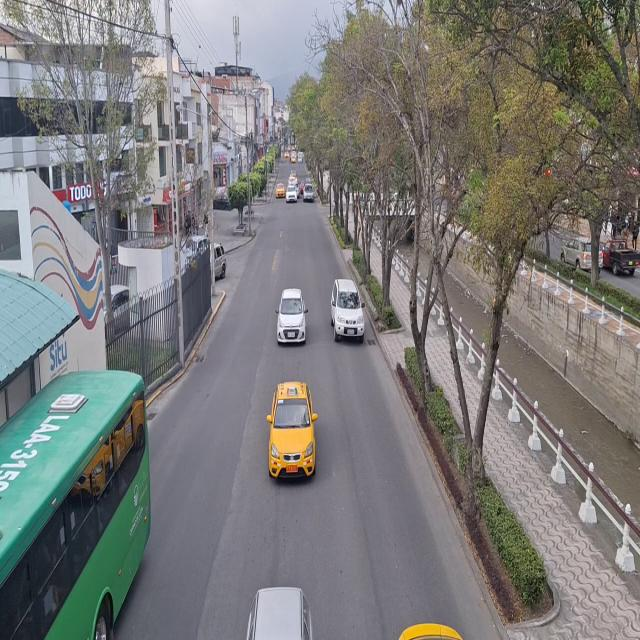BUS: (0, 381, 137, 640)
CMT: (605, 246, 638, 275)
SED: (270, 386, 316, 480)
SUV: (333, 284, 365, 342)
